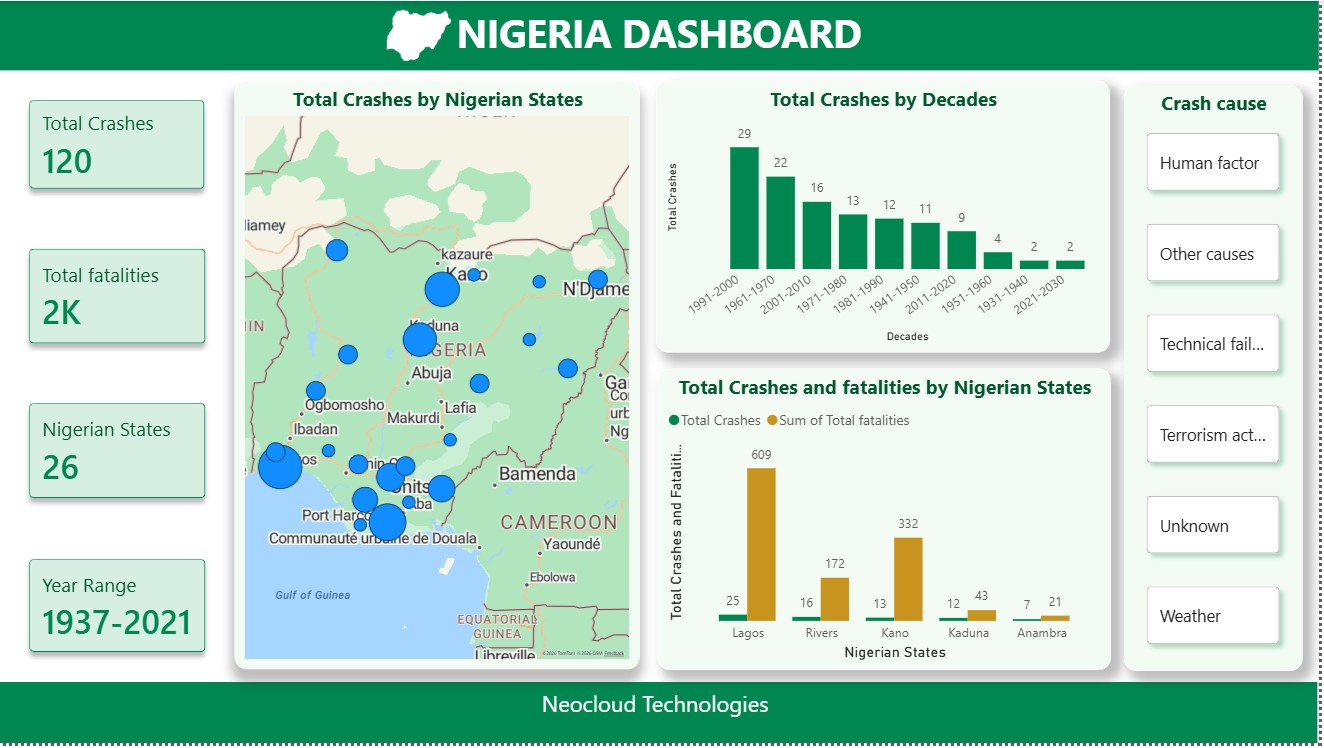

What the dashboard file says about the page in this screenshot:
{"tool":"powerbi","page":{"name":"Nigeria Dashboard","canvas":[1280,720],"ordinal":5},"visuals":[{"type":"cardVisual","fields":{"Data":["Worksheet.Total Crashes"]},"box":[0,66.4,228.3,144.1],"z":0},{"type":"cardVisual","fields":{"Data":["Sum(Worksheet.Total fatalities)"]},"box":[0,210.5,229.9,150.6],"z":1000},{"type":"cardVisual","fields":{"Data":["Count(Worksheet.Nigerian States)"]},"box":[0,361.1,229.9,150.6],"z":2000},{"type":"cardVisual","fields":{"Data":["Worksheet.Year Range"]},"box":[0,511.7,229.9,149],"z":3000},{"type":"textbox","box":[0,0,1280.8,67],"z":4000},{"type":"textbox","box":[0,660.6,1279.2,59.9],"z":5000},{"type":"azureMap","fields":{"Category":["Worksheet.Nigerian States"],"Size":["Worksheet.Total Crashes"]},"box":[228.3,77.7,393.5,571.6],"z":6000},{"type":"columnChart","fields":{"Category":["Worksheet.Decades"],"Y":["Worksheet.Total Crashes"]},"box":[638,77.7,440.4,263.9],"z":7000},{"type":"clusteredColumnChart","title":"Total Crashes and fatalities by Nigerian States","fields":{"Category":["Worksheet.Nigerian States"],"Y":["Worksheet.Total Crashes","Sum(Worksheet.Total fatalities)"]},"box":[638.7,357.2,440.3,292.9],"z":8000},{"type":"advancedSlicerVisual","fields":{"Values":["Worksheet.Crash cause"]},"box":[1091.4,81,173.3,568.3],"z":9000},{"type":"image","box":[365.9,0,84.2,66.4],"z":10000}]}

Visuals, with their boxes in screenshot pixels (x1, y1, x2, y2), scaled from the page's 1280x720 canvas onto the 1324x748 screenshot:
cardVisual - Worksheet.Total Crashes: box(0, 69, 236, 219)
cardVisual - Sum(Worksheet.Total fatalities): box(0, 219, 238, 375)
cardVisual - Count(Worksheet.Nigerian States): box(0, 375, 238, 532)
cardVisual - Worksheet.Year Range: box(0, 532, 238, 686)
textbox: box(0, 0, 1323, 70)
textbox: box(0, 686, 1323, 747)
azureMap - Worksheet.Nigerian States x Worksheet.Total Crashes: box(236, 81, 643, 675)
columnChart - Worksheet.Decades x Worksheet.Total Crashes: box(660, 81, 1115, 355)
"Total Crashes and fatalities by Nigerian States" clusteredColumnChart: box(661, 371, 1116, 675)
advancedSlicerVisual - Worksheet.Crash cause: box(1129, 84, 1308, 675)
image: box(378, 0, 466, 69)
